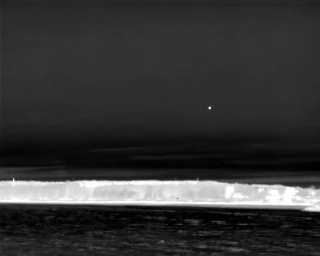HELICOPTER: (205, 104, 214, 114)
